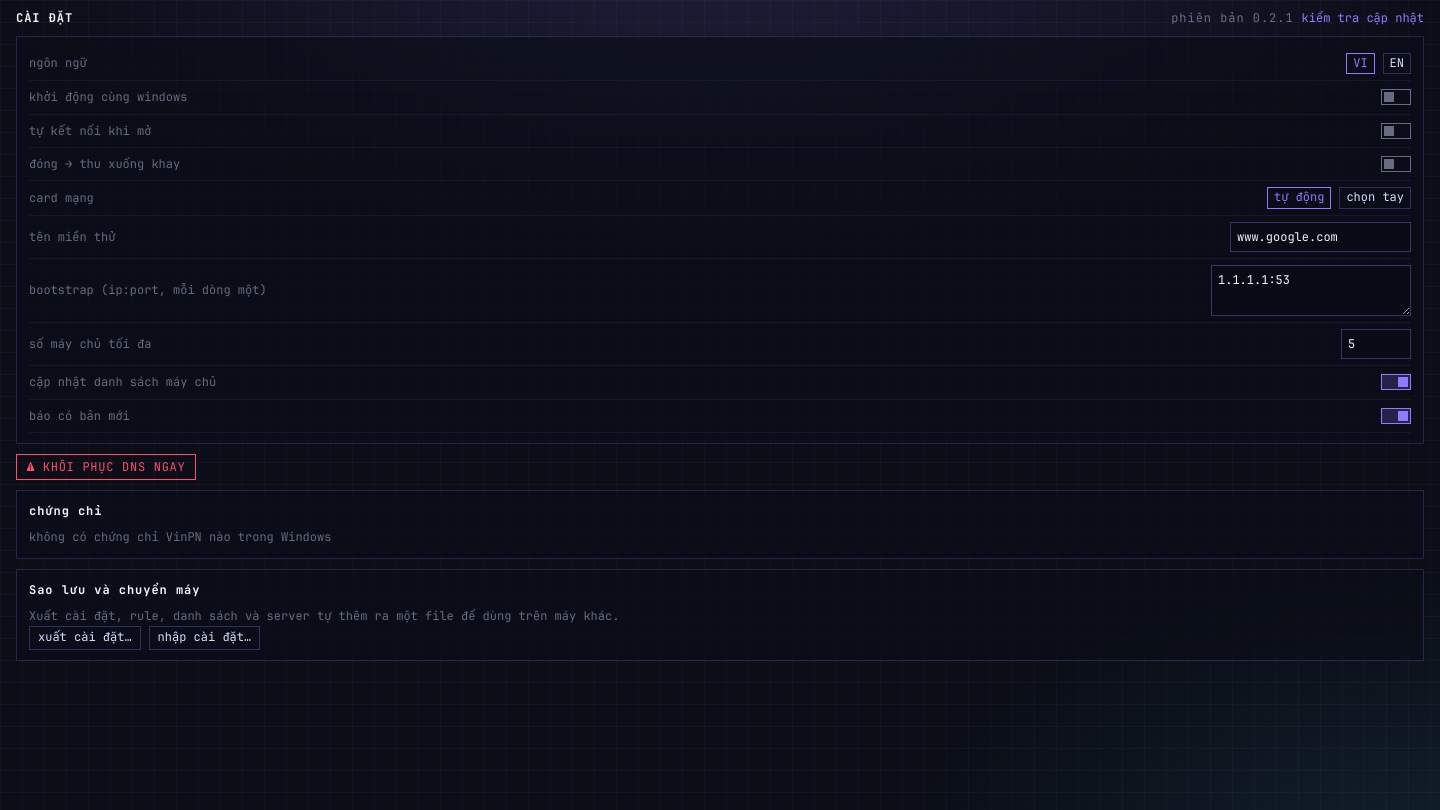
check for updates: shows the error
Click the button "kiểm tra cập nhật" at (1363, 18), box [1302,10,1424,26]
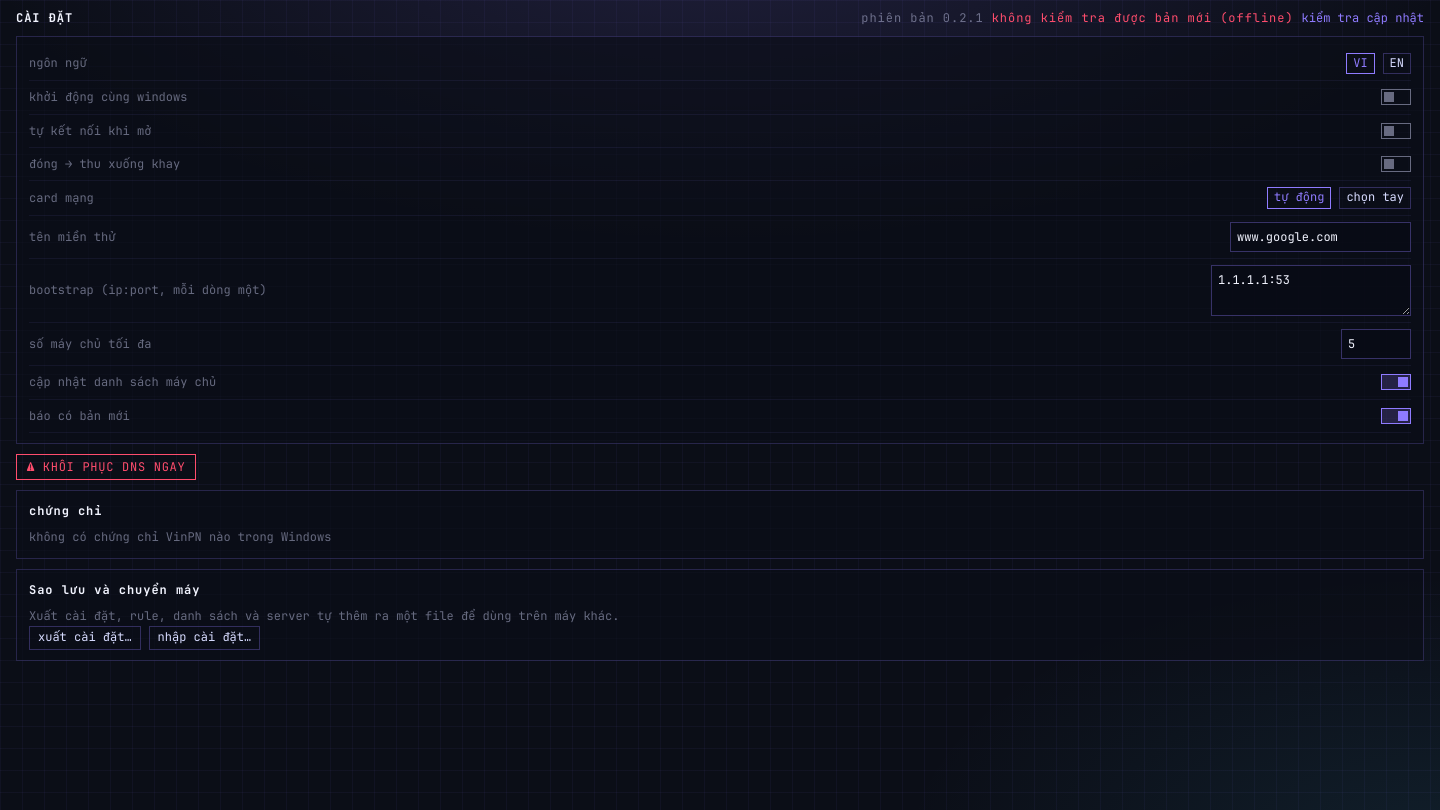
Expected: the text "không kiểm tra được bản mới (offline)" is shown, [992,10,1294,26]
